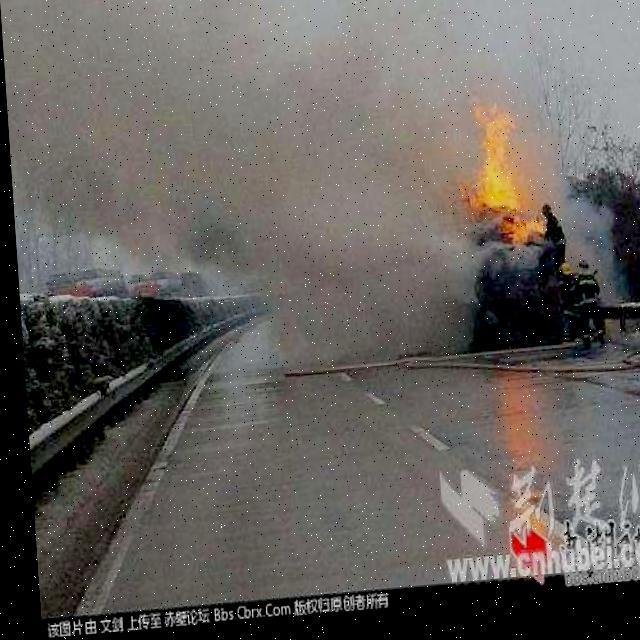Fire: (457, 102, 552, 259)
